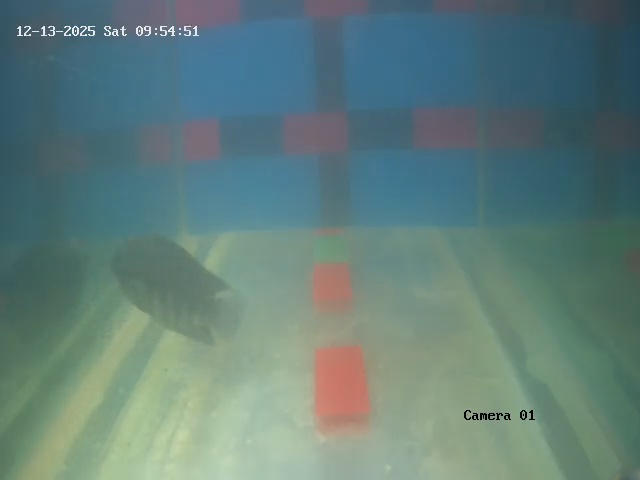fish: (100, 227, 232, 342)
